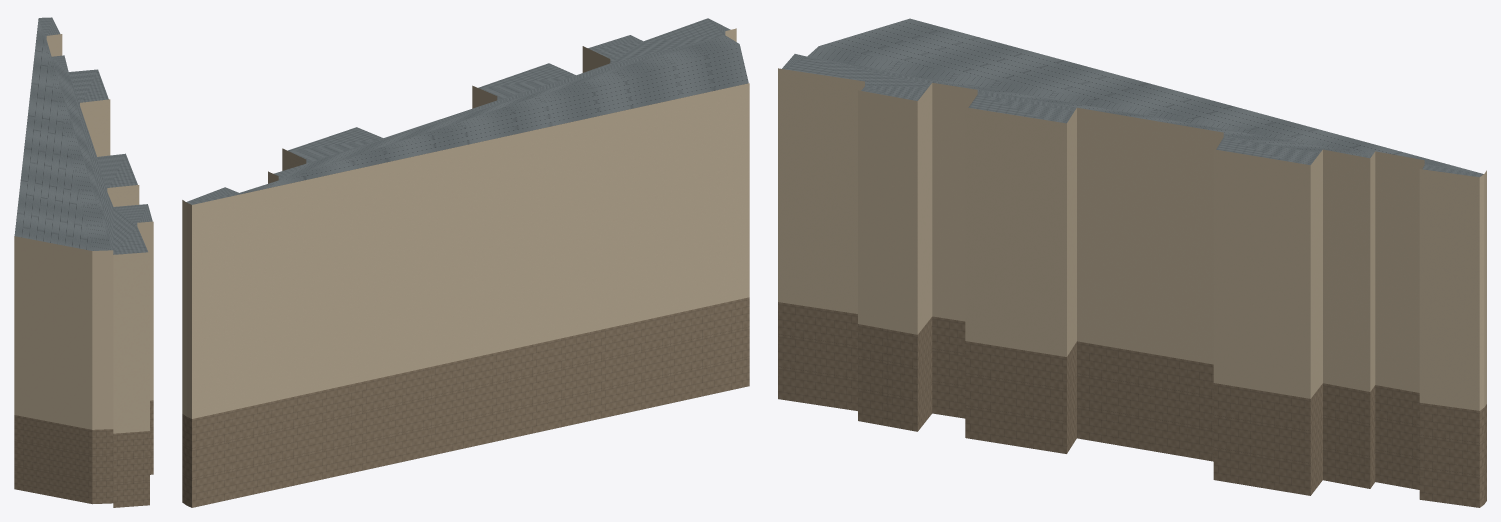
Rendered from bld_c10_41_506.gltf.
3 views of the same model, side by side, from view 1: azimuth 30°, elevation 25°; view 2: azimuth 150°, elevation 25°; view 3: azimuth 270°, elevation 25° (orthographic). The views are drawn at different scales.
Parts seen in each view (by area): view 1: bld_c10_41_506; view 2: bld_c10_41_506; view 3: bld_c10_41_506.
Boxes of the visible parts, box(x1,y1,x2,y2) form: bld_c10_41_506: box(14, 17, 153, 507); bld_c10_41_506: box(182, 18, 749, 507); bld_c10_41_506: box(778, 18, 1486, 507).
Size of the model in its own units: 18.4 by 17.38 by 33.75.
Materials: 4 (4 with a texture image).
